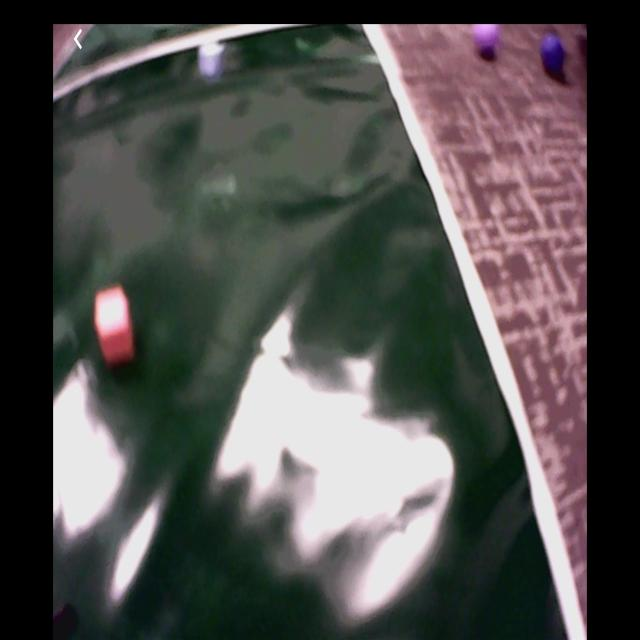ball: (544, 33, 566, 75), (474, 25, 501, 58)
